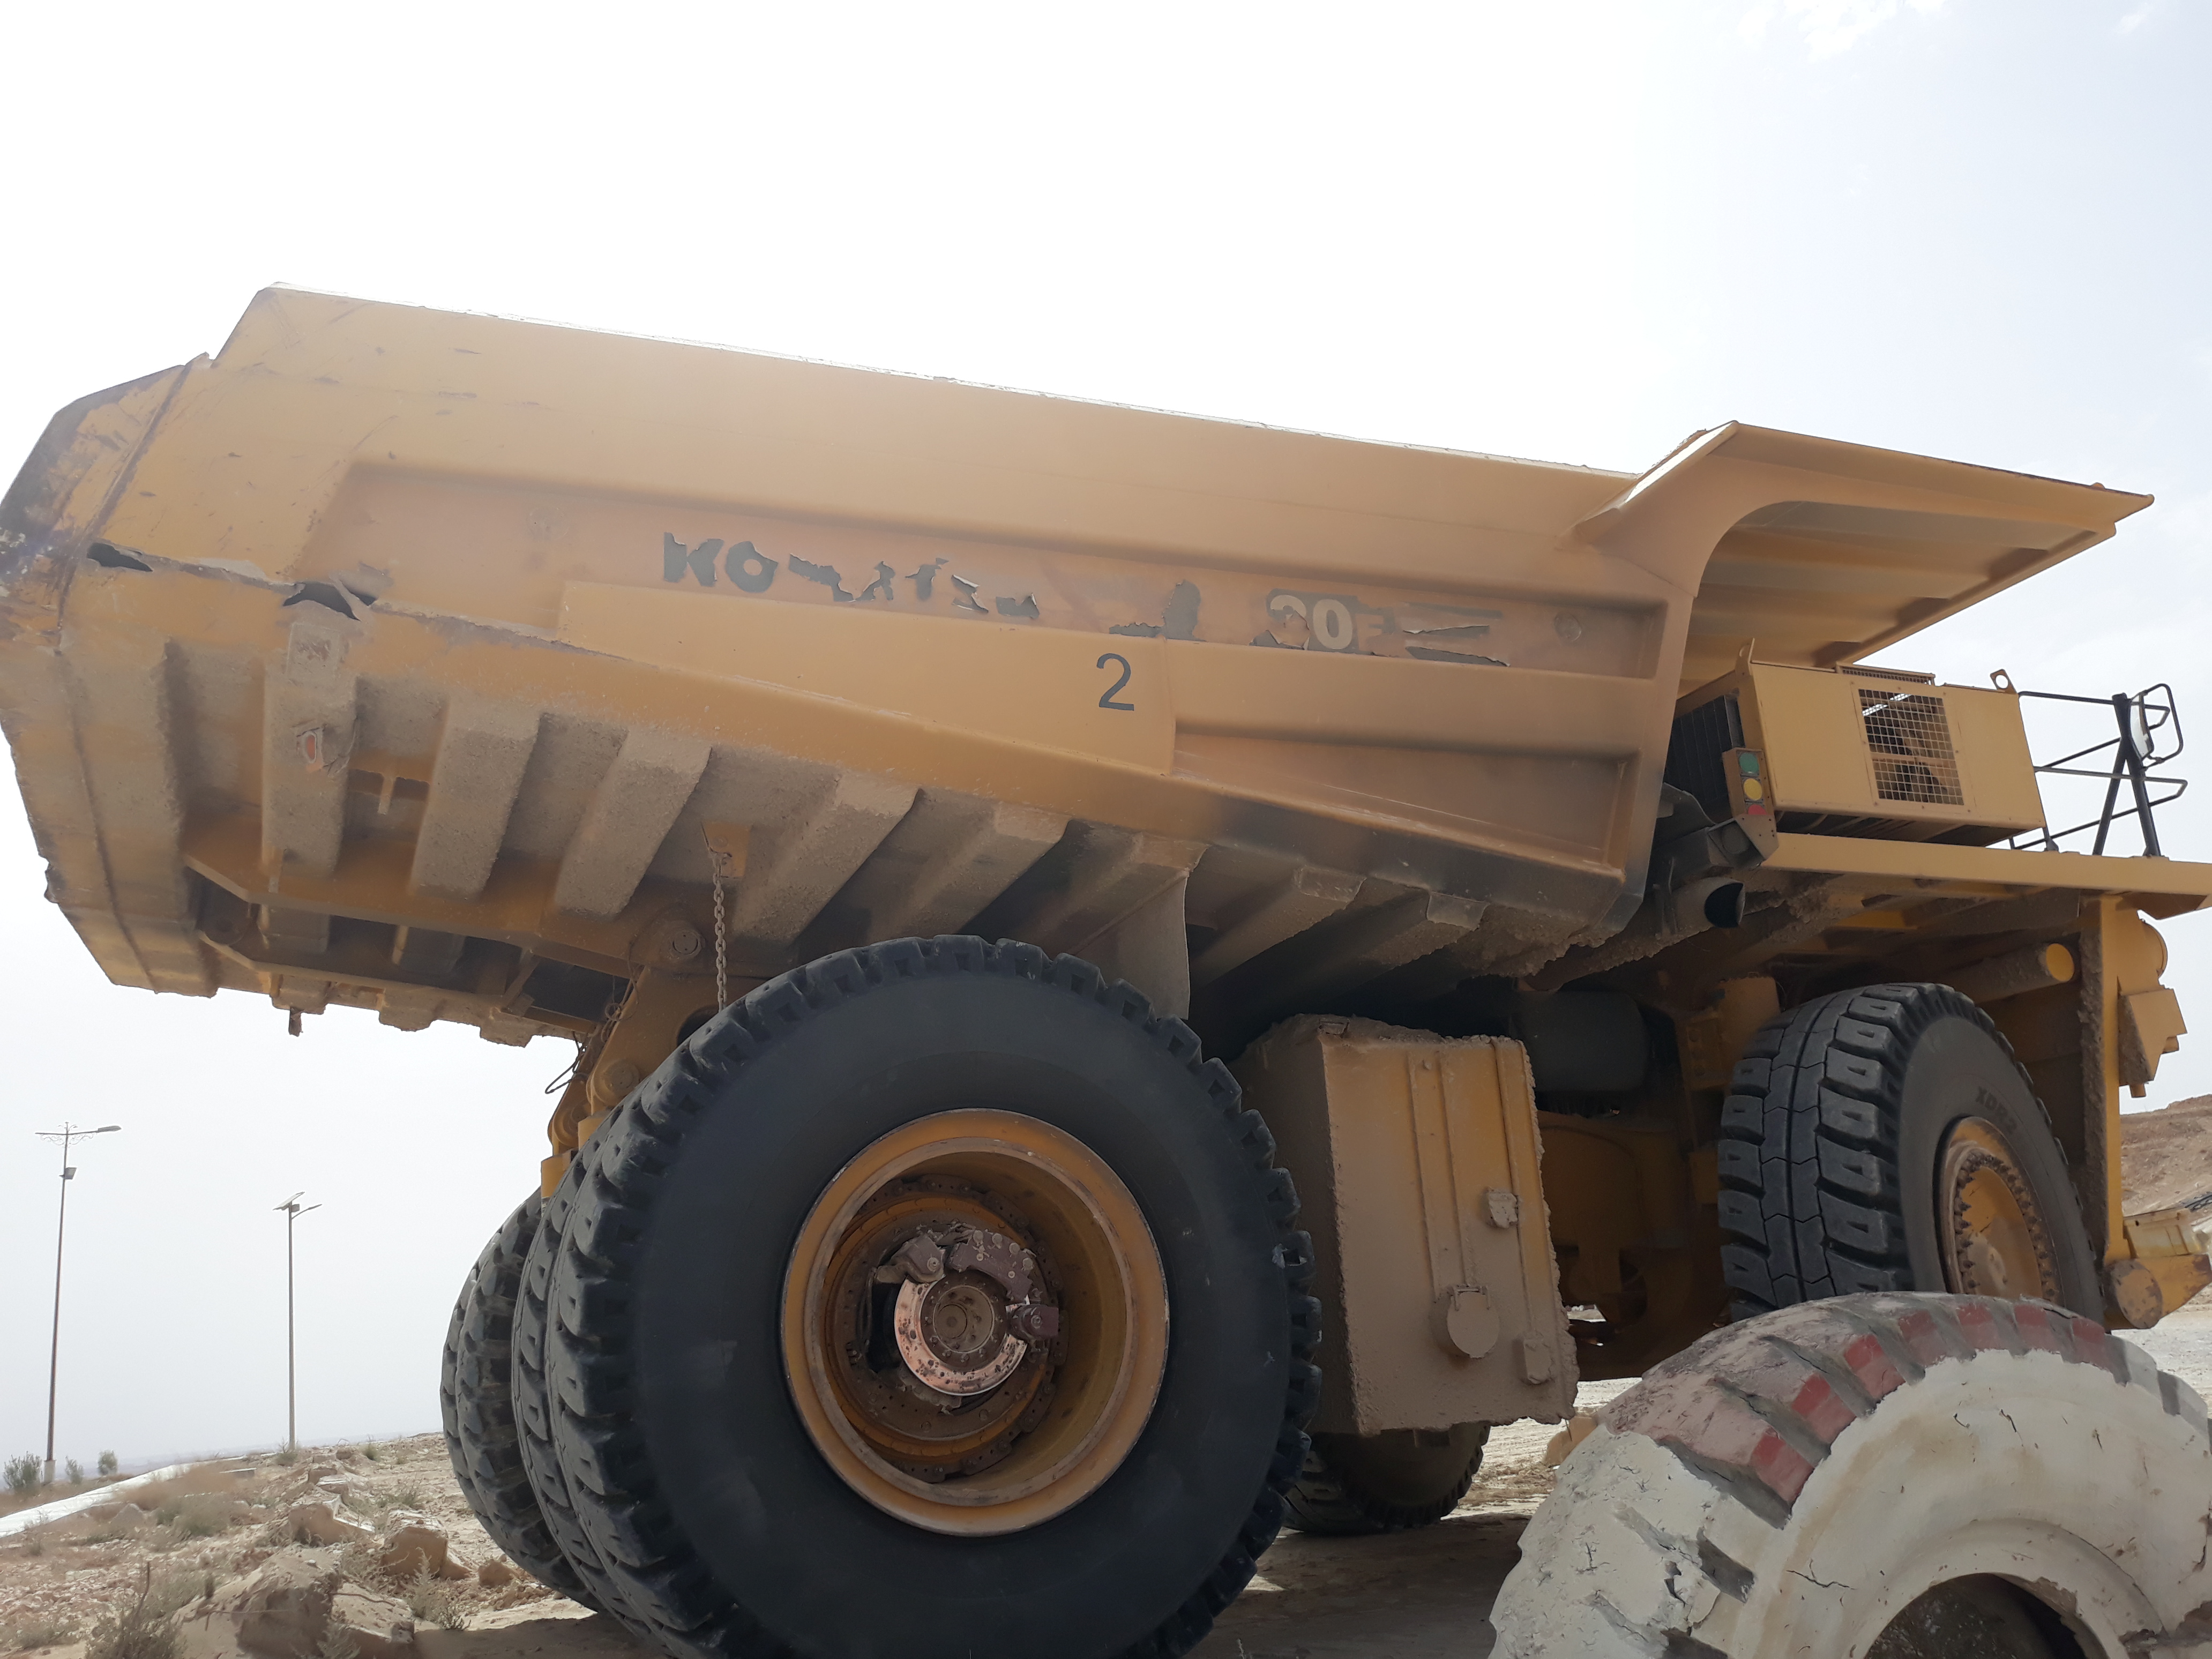camion: (12, 267, 2212, 1638)
